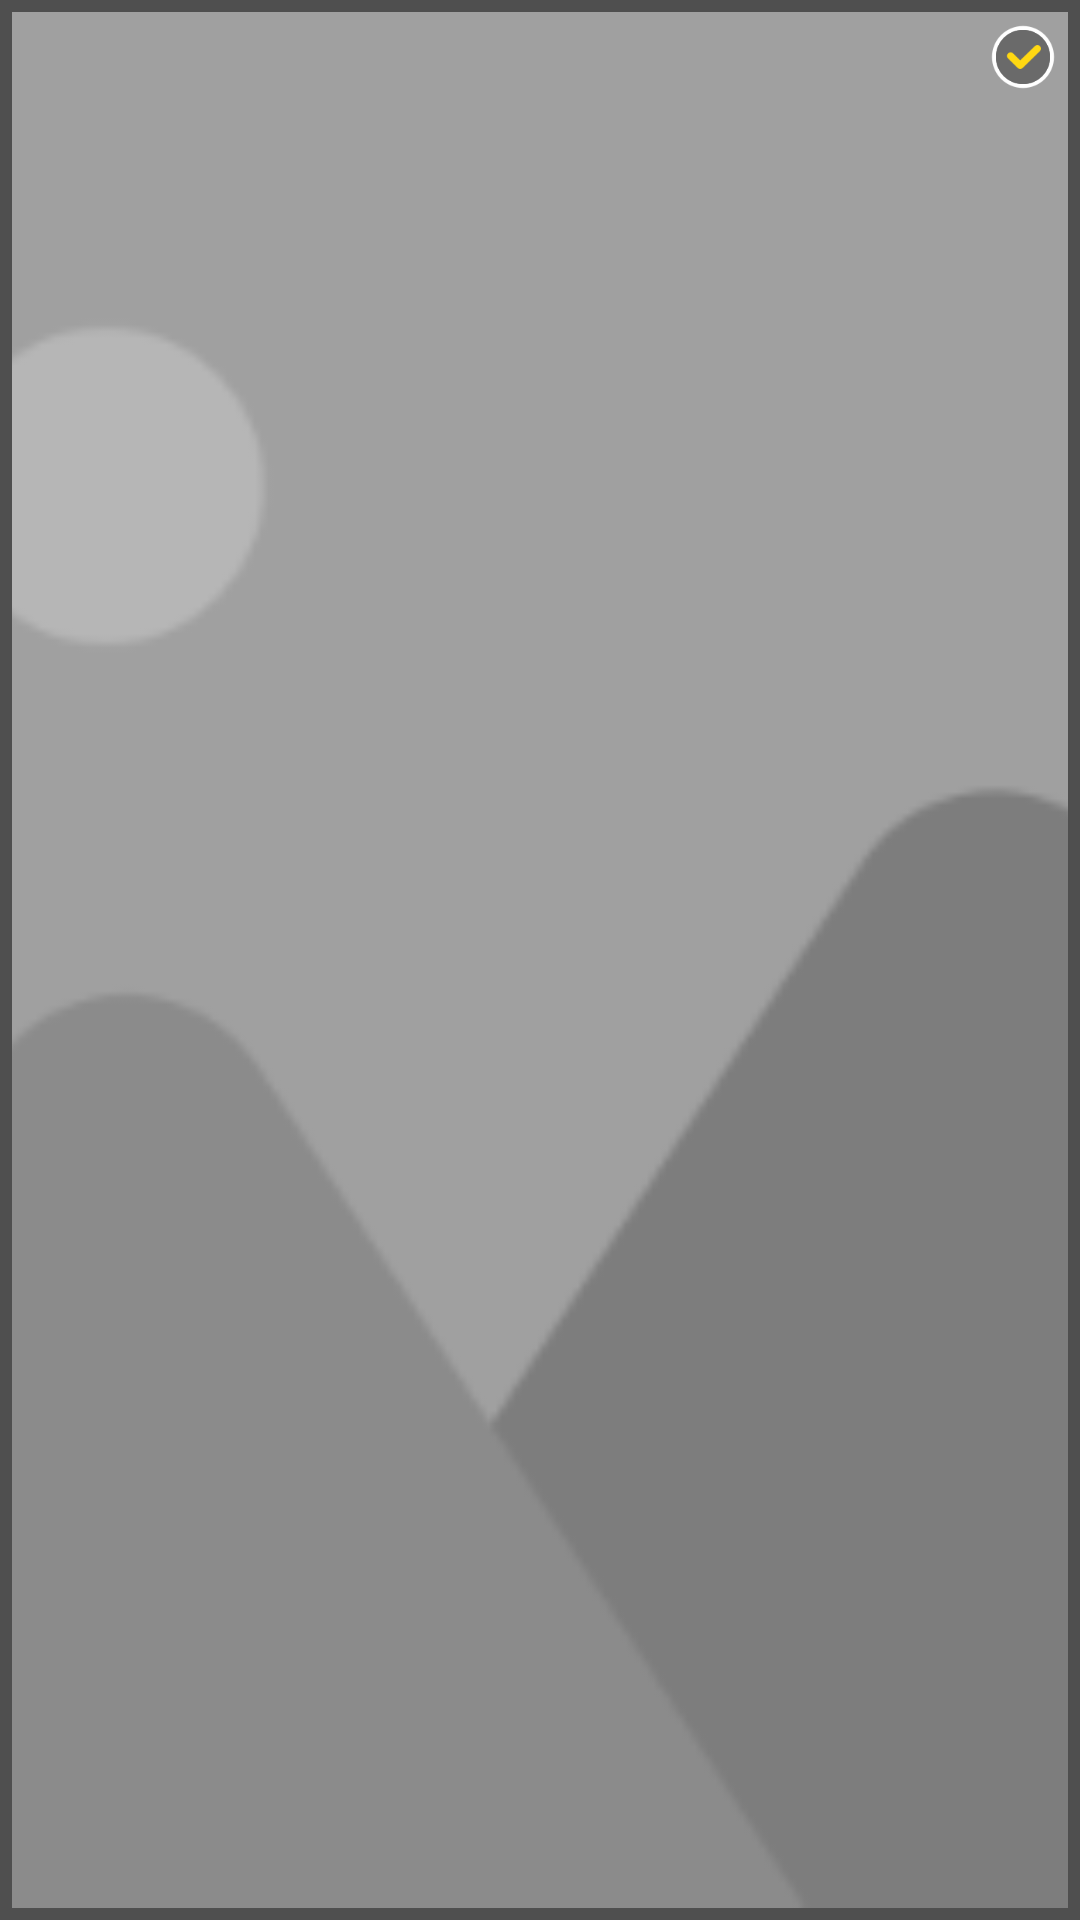

Icons on this 1080w x 1920h Android screen, each with its box as bbox=[x1, y1, x2, y2]:
check: bbox=[992, 26, 1054, 88]
